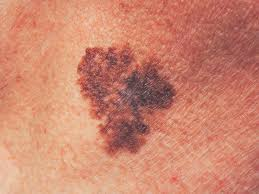melanoma: (58, 36, 186, 160)
